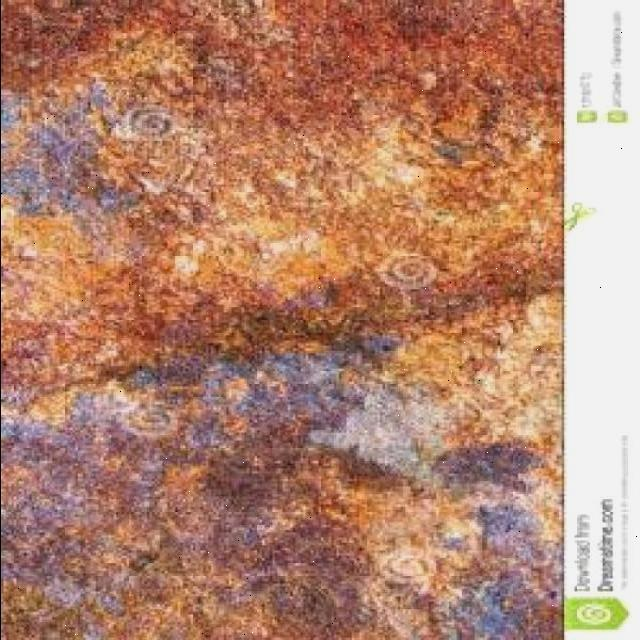corrosion: (104, 52, 453, 300), (19, 396, 268, 608), (70, 207, 267, 348)
vegetation: (247, 2, 560, 164)
